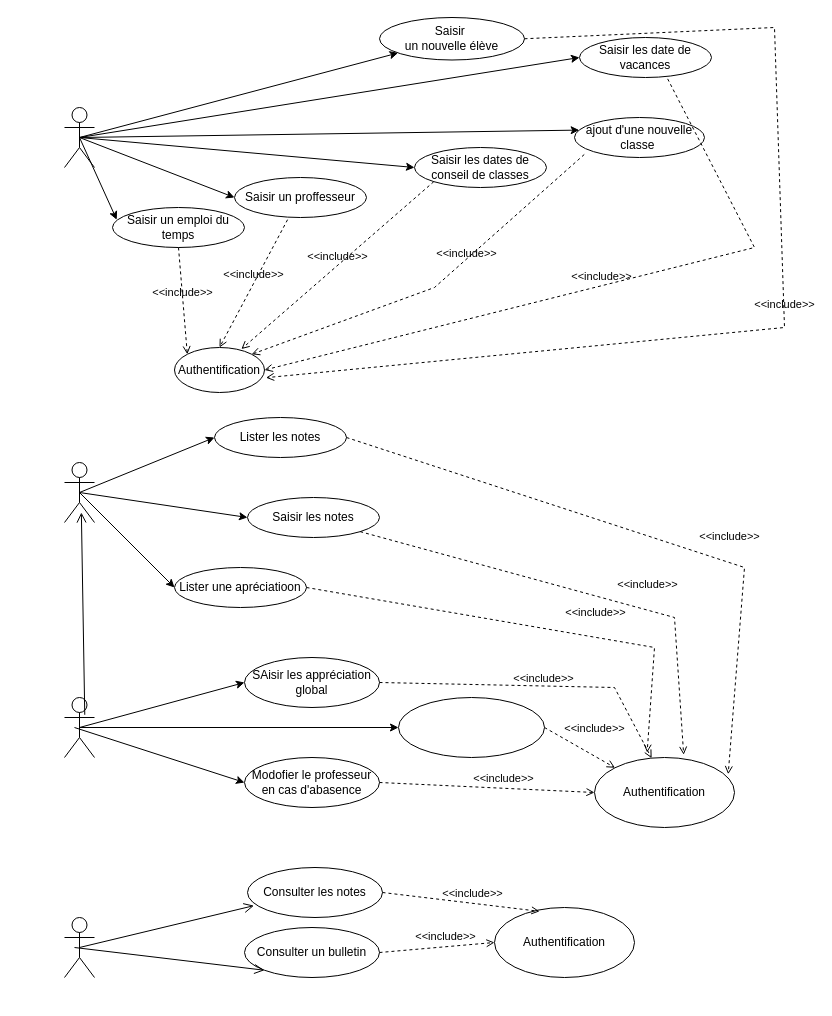
This 832x1016 diagram has some shape labels left out. Each missing label, with the centre of its shape:
"Equipe dirigeante" belongs at [79,137].
"Exporter les bulletin en PDF" belongs at [471,727].
"Parent d'élève ou élève" belongs at [79,947].
"Proffesseurs" belongs at [79,492].
"Proffesseurs principal" belongs at [79,727].
